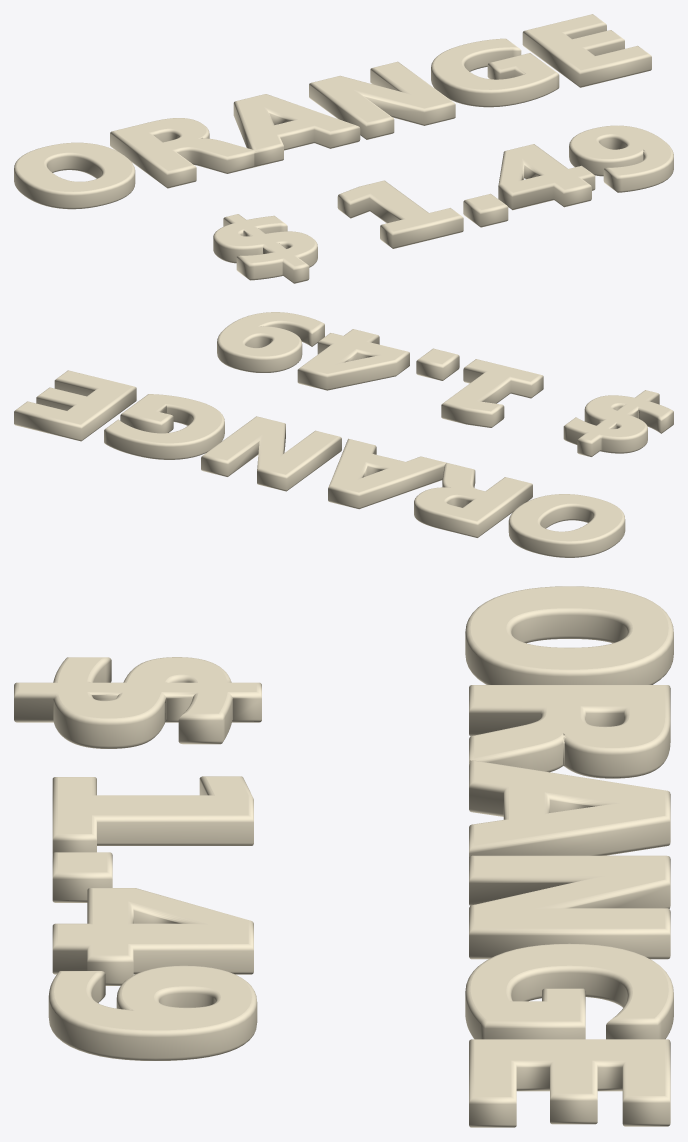
File: SM_EG_Produce_price_dff758b6a1.fbx
3 renders of one model, top to bottom at view 1: azimuth 30°, elevation 25°; view 2: azimuth 150°, elevation 25°; view 3: azimuth 270°, elevation 25°, orthographic. The views are drawn at different scales.
Parts seen in each view (by area): view 1: SM_EG_Produce_price_dff758b6a1; view 2: SM_EG_Produce_price_dff758b6a1; view 3: SM_EG_Produce_price_dff758b6a1.
Boxes of the visible parts, <box> form: SM_EG_Produce_price_dff758b6a1: <box>14,14,673,283</box>; SM_EG_Produce_price_dff758b6a1: <box>14,312,673,557</box>; SM_EG_Produce_price_dff758b6a1: <box>14,586,673,1127</box>.
Bounding box in the file's own units: 16.09 × 8.72 × 0.44.
